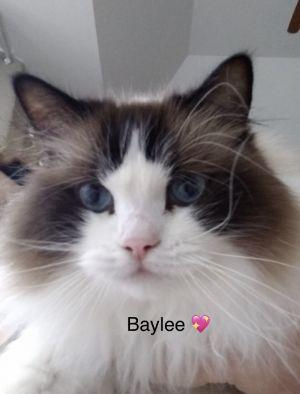ragdoll: (1, 38, 277, 313)
